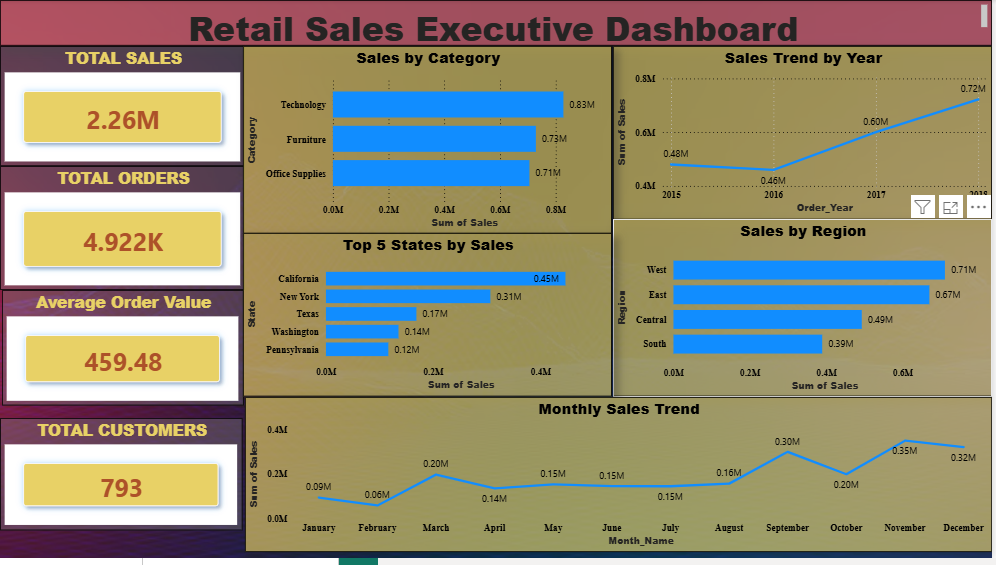

The page's visual inventory and layout, read from the dashboard file:
{"tool":"powerbi","page":{"name":"Executive Summary","canvas":[1280,720],"ordinal":0},"visuals":[{"type":"textbox","box":[0,0,1280.2,59.3],"z":0},{"type":"cardVisual","title":"TOTAL SALES","fields":{"Data":["Sum(Superstore_Cleaned.Sales)"]},"box":[0,58.8,316.5,155.3],"z":1000},{"type":"cardVisual","title":"TOTAL ORDERS","fields":{"Data":["Count(Superstore_Cleaned.Order_ID)"]},"box":[0,214.1,316.5,160],"z":2000},{"type":"cardVisual","title":"TOTAL CUSTOMERS","fields":{"Data":["Count(Superstore_Cleaned.Customer_ID)"]},"box":[0,538.8,312.9,144.7],"z":3000},{"type":"cardVisual","title":"Average Order Value","fields":{"Data":["Superstore_Cleaned.Avg Sales Per Order"]},"box":[2.4,374.1,311.8,149.4],"z":4000},{"type":"lineChart","title":"Sales Trend by Year","fields":{"Category":["Superstore_Cleaned.Order_Year"],"Y":["Sum(Superstore_Cleaned.Sales)"]},"box":[790.6,58.8,489.4,223.5],"z":5000},{"type":"clusteredBarChart","title":"Sales by Category","fields":{"Y":["Sum(Superstore_Cleaned.Sales)"],"Category":["Superstore_Cleaned.Category"]},"box":[314.1,58.8,476.5,242.4],"z":6000},{"type":"barChart","title":"Sales by Region","fields":{"Category":["Superstore_Cleaned.Region"],"Y":["Sum(Superstore_Cleaned.Sales)"]},"box":[790.6,282.4,489.4,229.4],"z":7000},{"type":"barChart","title":"Top 5 States by Sales","fields":{"Y":["Sum(Superstore_Cleaned.Sales)"],"Category":["Superstore_Cleaned.State"]},"box":[314.1,301.2,476.5,210.6],"z":8000},{"type":"lineChart","title":"Monthly Sales Trend","fields":{"Category":["Superstore_Cleaned.Month_Name"],"Y":["Sum(Superstore_Cleaned.Sales)"]},"box":[316.5,511.8,963.5,200],"z":9000}]}

Visuals, with their boxes in screenshot pixels (x1, y1, x2, y2), scaled from the page's 1280x720 canvas onto the 996x565 screenshot:
textbox: Rect(0, 0, 995, 47)
"TOTAL SALES" cardVisual: Rect(0, 46, 246, 168)
"TOTAL ORDERS" cardVisual: Rect(0, 168, 246, 294)
"TOTAL CUSTOMERS" cardVisual: Rect(0, 423, 243, 536)
"Average Order Value" cardVisual: Rect(2, 294, 244, 411)
"Sales Trend by Year" lineChart: Rect(615, 46, 995, 222)
"Sales by Category" clusteredBarChart: Rect(244, 46, 615, 236)
"Sales by Region" barChart: Rect(615, 222, 995, 402)
"Top 5 States by Sales" barChart: Rect(244, 236, 615, 402)
"Monthly Sales Trend" lineChart: Rect(246, 402, 995, 559)
